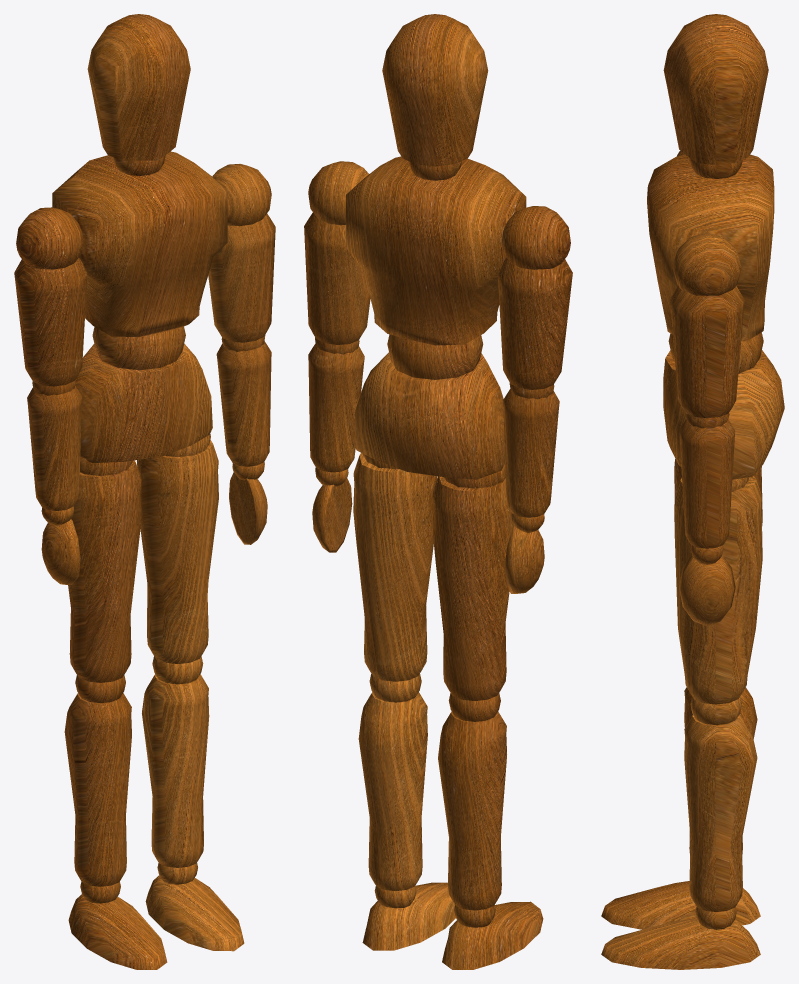
Rendered from dummy_obj_walk_pose_0.obj.
The picture shows the model from 3 angles, left to right: view 1: azimuth 30°, elevation 25°; view 2: azimuth 150°, elevation 25°; view 3: azimuth 270°, elevation 25°; orthographic projection. The views are drawn at different scales.
Parts seen in each view (by area): view 1: dummy_hips3 dummy_belly dummy_torso 메시, dummy_hips3 dummy_lpelvis dummy_lupleg 메시, dummy_hips3 dummy_rpelvis dummy_rupleg 메시, dummy_hips3 메시, dummy_hips3 dummy_belly dummy_torso dummy_neck dummy_headq 메시, dummy_hips3 dummy_rpelvis dummy_rupleg dummy_rknee dummy_rleg 메시, dummy_hips3 dummy_lpelvis dummy_lupleg dummy_lknee dummy_lleg 메시, dummy_hips3 dummy_belly dummy_torso dummy_lshoulder dummy_larm d, dummy_hips3 dummy_belly dummy_torso dummy_rshoulder dummy_rarm d, dummy_hips3 dummy_belly dummy_torso dummy_rshoulder dummy_rarm 메, dummy_hips3 dummy_belly dummy_torso dummy_lshoulder dummy_larm 메, dummy_hips3 dummy_rpelvis dummy_rupleg dummy_rknee dummy_rleg du (+8 smaller); view 2: dummy_hips3 dummy_belly dummy_torso 메시, dummy_hips3 dummy_lpelvis dummy_lupleg 메시, dummy_hips3 dummy_rpelvis dummy_rupleg 메시, dummy_hips3 메시, dummy_hips3 dummy_belly dummy_torso dummy_neck dummy_headq 메시, dummy_hips3 dummy_lpelvis dummy_lupleg dummy_lknee dummy_lleg 메시, dummy_hips3 dummy_rpelvis dummy_rupleg dummy_rknee dummy_rleg 메시, dummy_hips3 dummy_belly dummy_torso dummy_rshoulder dummy_rarm d, dummy_hips3 dummy_belly dummy_torso dummy_lshoulder dummy_larm d, dummy_hips3 dummy_belly dummy_torso dummy_rshoulder dummy_rarm 메, dummy_hips3 dummy_belly dummy_torso dummy_lshoulder dummy_larm 메, dummy_hips3 dummy_rpelvis dummy_rupleg dummy_rknee dummy_rleg du (+8 smaller); view 3: dummy_hips3 dummy_belly dummy_torso 메시, dummy_hips3 dummy_belly dummy_torso dummy_neck dummy_headq 메시, dummy_hips3 dummy_lpelvis dummy_lupleg dummy_lknee dummy_lleg 메시, dummy_hips3 dummy_lpelvis dummy_lupleg 메시, dummy_hips3 dummy_belly dummy_torso dummy_lshoulder dummy_larm d, dummy_hips3 dummy_belly dummy_torso dummy_lshoulder dummy_larm 메, dummy_hips3 dummy_lpelvis dummy_lupleg dummy_lknee dummy_lleg du, dummy_hips3 메시, dummy_hips3 dummy_rpelvis dummy_rupleg dummy_rknee dummy_rleg du, dummy_hips3 dummy_belly dummy_torso dummy_lshoulder 메시, dummy_hips3 dummy_lpelvis dummy_lupleg dummy_lknee 메시, dummy_hips3 dummy_rpelvis dummy_rupleg dummy_rknee dummy_rleg 메시 (+2 smaller).
Part boxes in pixels (x1,y1,x2,y2): dummy_hips3 dummy_belly dummy_torso 메시: (52,151,227,337); dummy_hips3 dummy_lpelvis dummy_lupleg 메시: (137,440,218,663); dummy_hips3 dummy_rpelvis dummy_rupleg 메시: (68,460,141,682); dummy_hips3 메시: (75,343,212,462); dummy_hips3 dummy_belly dummy_torso dummy_neck dummy_headq 메시: (87,14,190,160); dummy_hips3 dummy_rpelvis dummy_rupleg dummy_rknee dummy_rleg 메시: (64,693,131,886); dummy_hips3 dummy_lpelvis dummy_lupleg dummy_lknee dummy_lleg 메시: (142,674,209,867); dummy_hips3 dummy_belly dummy_torso dummy_lshoulder dummy_larm d: (216,335,271,544); dummy_hips3 dummy_belly dummy_torso dummy_rshoulder dummy_rarm d: (27,379,81,585); dummy_hips3 dummy_belly dummy_torso dummy_rshoulder dummy_rarm 메: (14,258,87,386); dummy_hips3 dummy_belly dummy_torso dummy_lshoulder dummy_larm 메: (208,213,275,342); dummy_hips3 dummy_rpelvis dummy_rupleg dummy_rknee dummy_rleg du: (68,881,167,969); dummy_hips3 dummy_belly dummy_torso 메시: (346,156,526,345); dummy_hips3 dummy_lpelvis dummy_lupleg 메시: (353,453,437,681); dummy_hips3 dummy_rpelvis dummy_rupleg 메시: (432,476,514,700); dummy_hips3 메시: (353,352,504,479); dummy_hips3 dummy_belly dummy_torso dummy_neck dummy_headq 메시: (382,14,488,166); dummy_hips3 dummy_lpelvis dummy_lupleg dummy_lknee dummy_lleg 메시: (358,692,427,891); dummy_hips3 dummy_rpelvis dummy_rupleg dummy_rknee dummy_rleg 메시: (438,711,506,910); dummy_hips3 dummy_belly dummy_torso dummy_rshoulder dummy_rarm d: (503,382,559,593); dummy_hips3 dummy_belly dummy_torso dummy_lshoulder dummy_larm d: (308,337,364,552); dummy_hips3 dummy_belly dummy_torso dummy_rshoulder dummy_rarm 메: (498,257,572,389); dummy_hips3 dummy_belly dummy_torso dummy_lshoulder dummy_larm 메: (304,212,370,344); dummy_hips3 dummy_rpelvis dummy_rupleg dummy_rknee dummy_rleg du: (442,901,543,969); dummy_hips3 dummy_belly dummy_torso 메시: (647,154,774,341); dummy_hips3 dummy_belly dummy_torso dummy_neck dummy_headq 메시: (663,14,768,165); dummy_hips3 dummy_lpelvis dummy_lupleg dummy_lknee dummy_lleg 메시: (684,715,757,911); dummy_hips3 dummy_lpelvis dummy_lupleg 메시: (674,476,762,704); dummy_hips3 dummy_belly dummy_torso dummy_lshoulder dummy_larm d: (679,413,735,626); dummy_hips3 dummy_belly dummy_torso dummy_lshoulder dummy_larm 메: (670,286,744,418); dummy_hips3 dummy_lpelvis dummy_lupleg dummy_lknee dummy_lleg du: (601,907,760,969); dummy_hips3 메시: (663,350,784,479); dummy_hips3 dummy_rpelvis dummy_rupleg dummy_rknee dummy_rleg du: (601,881,760,929); dummy_hips3 dummy_belly dummy_torso dummy_lshoulder 메시: (672,233,741,295); dummy_hips3 dummy_lpelvis dummy_lupleg dummy_lknee 메시: (690,696,741,725); dummy_hips3 dummy_rpelvis dummy_rupleg dummy_rknee dummy_rleg 메시: (684,687,757,853).
Size of the model in its own units: 51.78 by 177 by 32.13.
29 materials, 29 textured.
